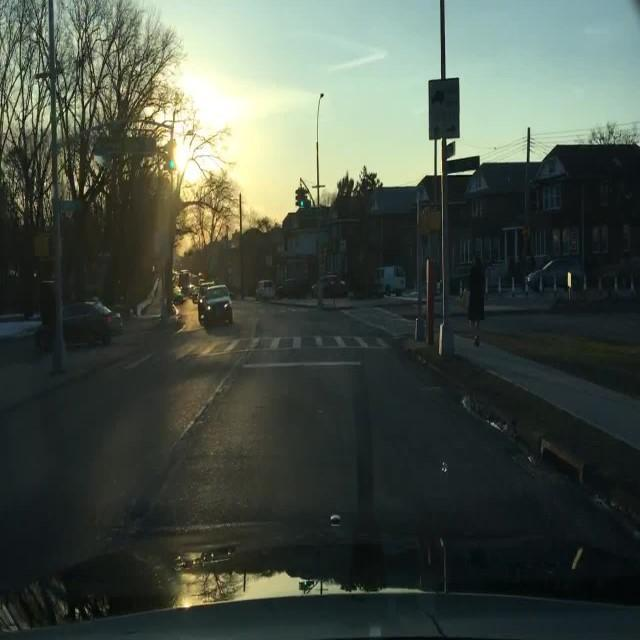normal: (175, 250, 249, 348)
